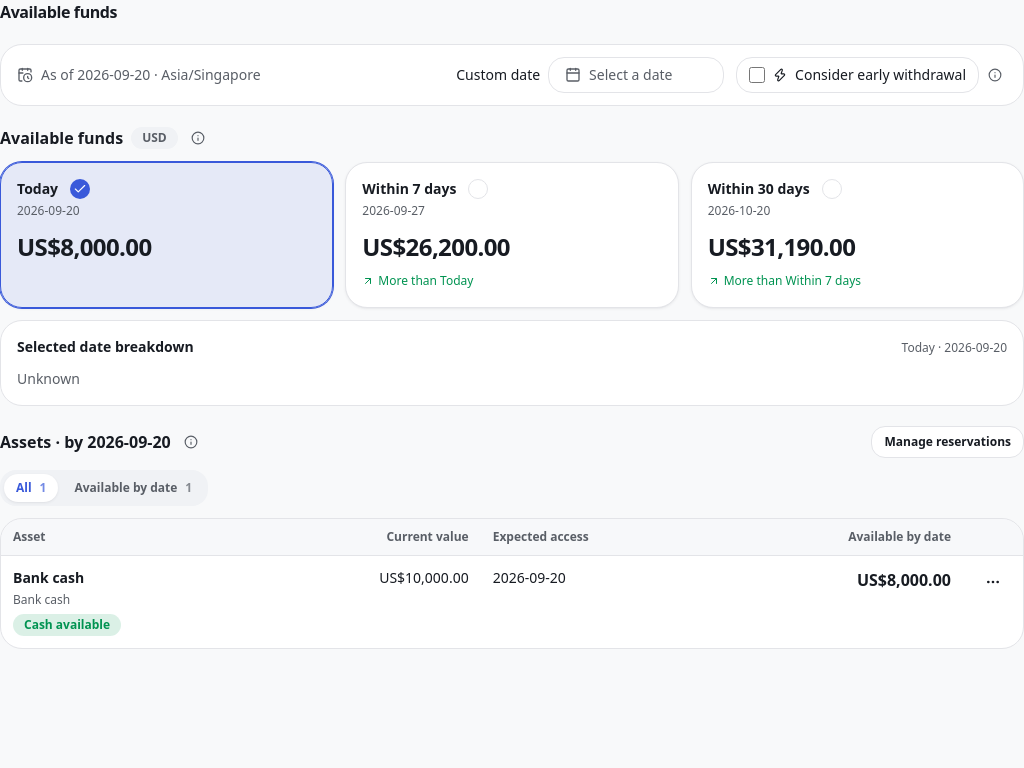
Scenario: AvailableFundsPage › keeps secondary row actions in a menu
Expected: the button "Edit source rules" is not shown
What coordinates should you click on to do the following:
click the button named "Actions for"
I would click on:
 (993, 582)
Its box is [975,564,1011,600].
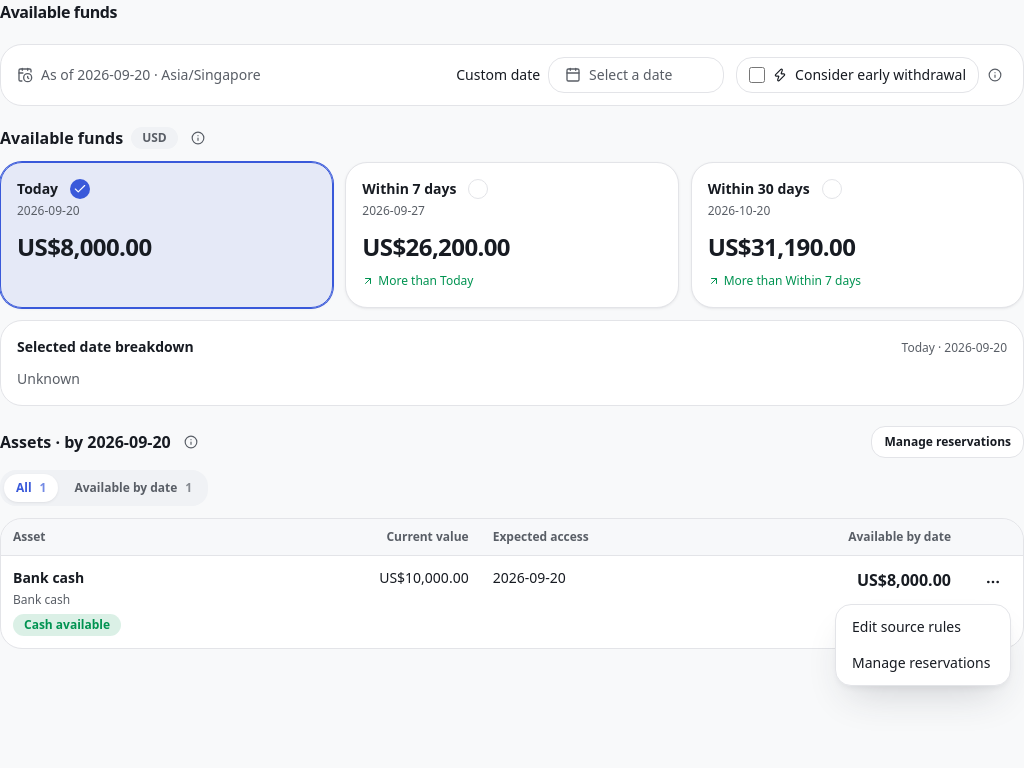
Expected: the menu item "Manage reservations" is shown, [852,653,990,672]
What coordinates should you click on to do the following:
click the menu item "Edit source rules"
I would click on:
 (906, 626)
Its box is [852,617,961,636].
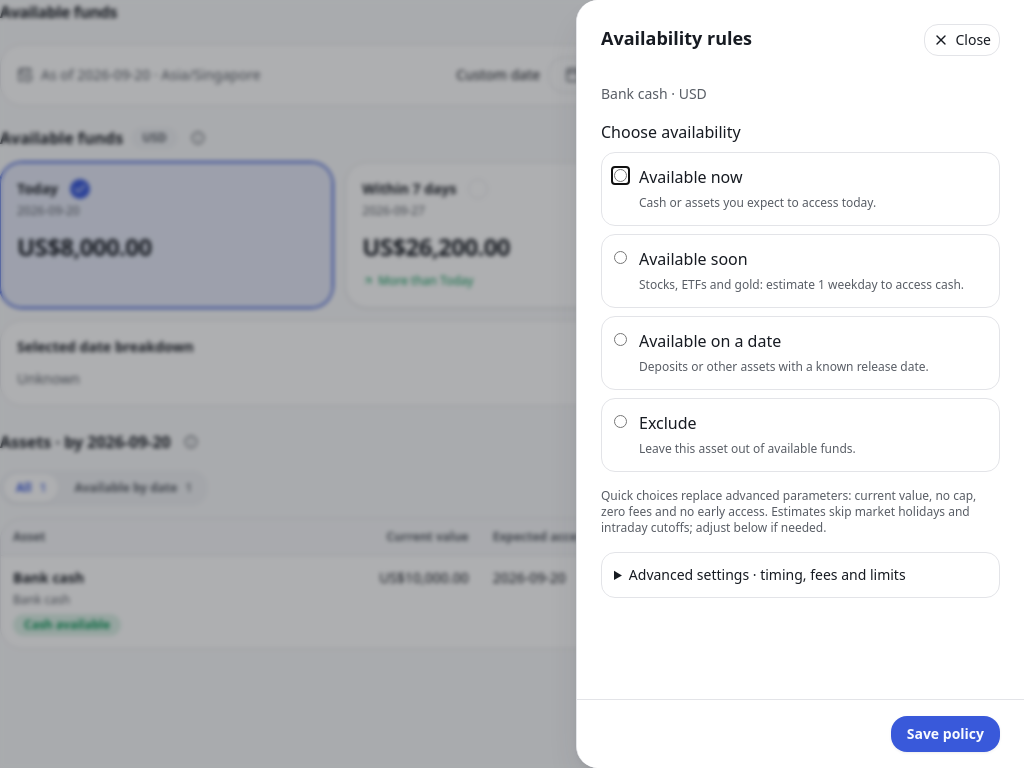
Expected: the dialog is shown, [576,0,1023,767]
Expected: the menu item is gone
